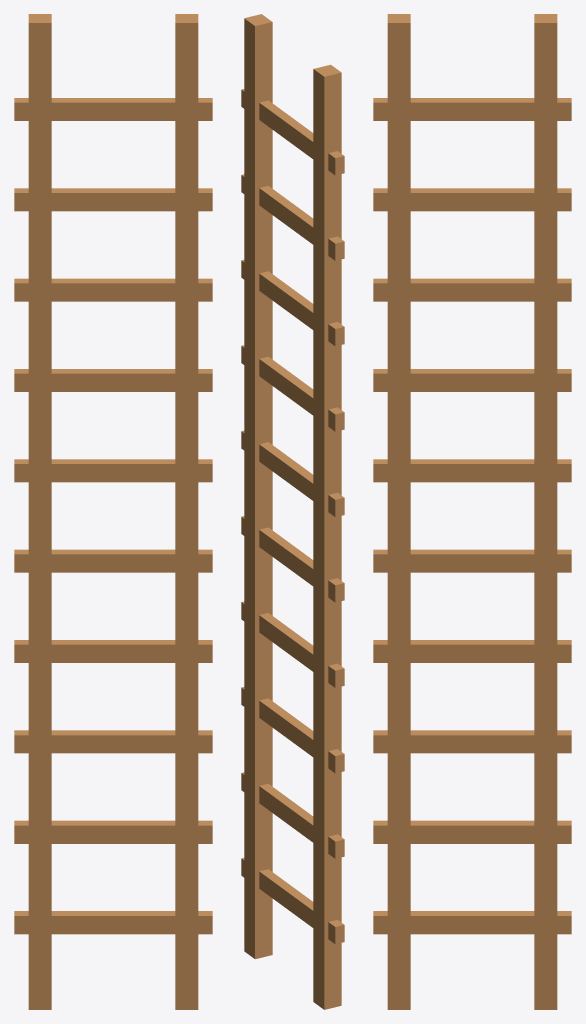
The model's file is ladder.fbx.
3 renders of one model, left to right at view 1: azimuth 90°, elevation 25°; view 2: azimuth 210°, elevation 25°; view 3: azimuth 270°, elevation 25°, orthographic. The views are drawn at different scales.
Visible parts, largest first — view 1: Cube; view 2: Cube; view 3: Cube.
Boxes of the visible parts, x1,y1,x2,y2 form: Cube: (14,14,212,1009); Cube: (241,14,344,1009); Cube: (373,14,571,1009).
Bounding box in the file's own units: 10.68 × 546 × 99.58.
